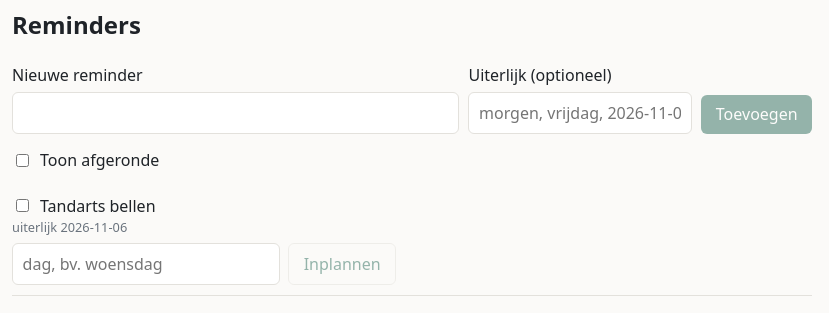
Test: RemindersPage › plans a reminder on a day
Type "woensdag" into the field named "inplannen op".
click(146, 264); type("woensdag")  # box [12,243,280,285]
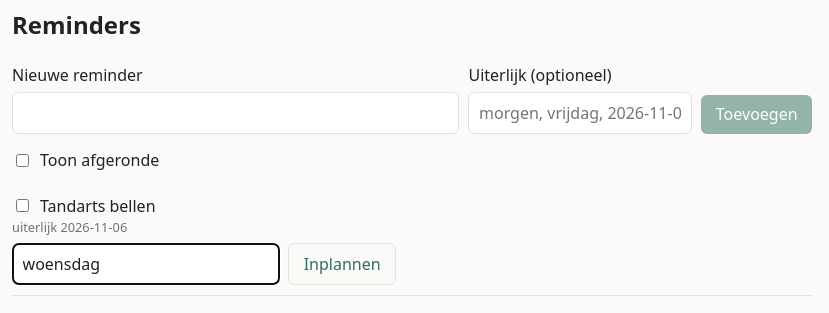
Click the button "Inplannen".
click(342, 264)  # box [288,243,396,285]
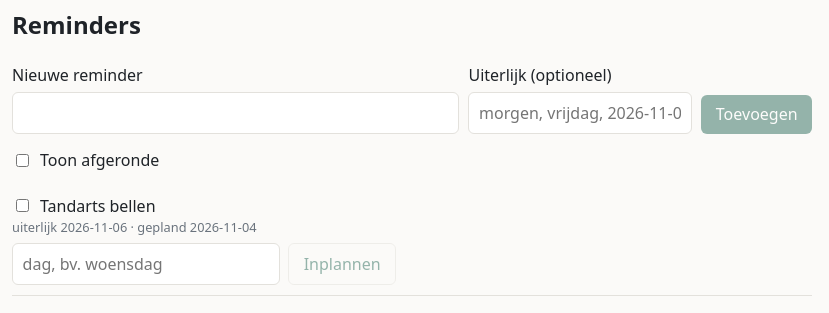
Now the text "uiterlijk 2026-11-06 · gepland 2026-11-04" is shown, box [12,218,257,236]
